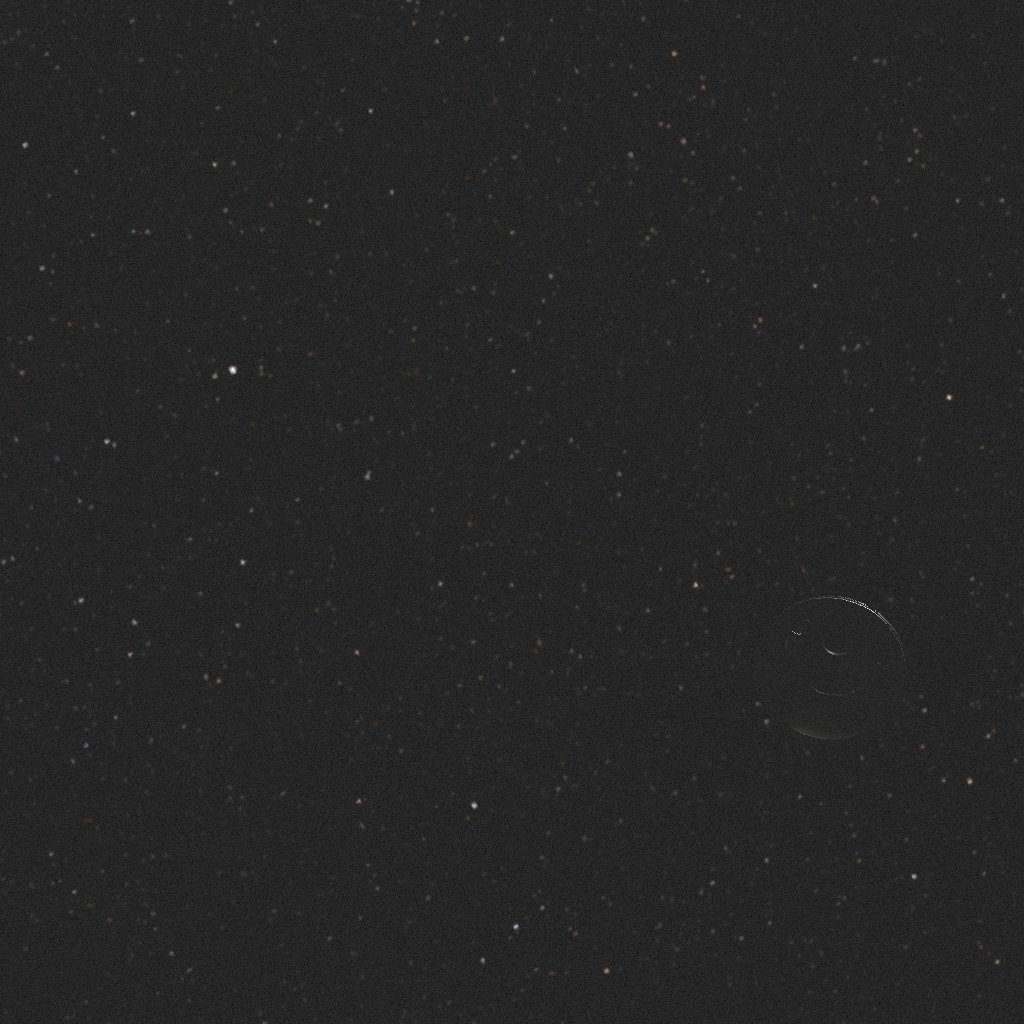debris: (753, 596, 908, 746)
